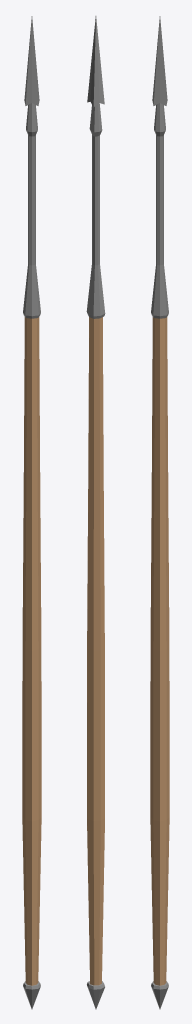
The model's file is Javalin.fbx.
3 views of the same model, side by side, from view 1: azimuth 90°, elevation 25°; view 2: azimuth 210°, elevation 25°; view 3: azimuth 270°, elevation 25° (orthographic).
Visible parts, largest first — view 1: Cylinder, Cube.001, Cube; view 2: Cylinder, Cube.001, Cube; view 3: Cylinder, Cube.001, Cube.
Part boxes in pixels (x1,y1,x2,y2): Cylinder: (22, 317, 41, 985); Cube.001: (23, 16, 40, 318); Cube: (23, 981, 40, 1009); Cylinder: (87, 317, 104, 985); Cube.001: (86, 16, 105, 318); Cube: (87, 981, 104, 1009); Cylinder: (150, 317, 169, 985); Cube.001: (151, 16, 168, 318); Cube: (151, 981, 168, 1009).
Size of the model in its own units: 31.52 by 1674 by 29.43.
